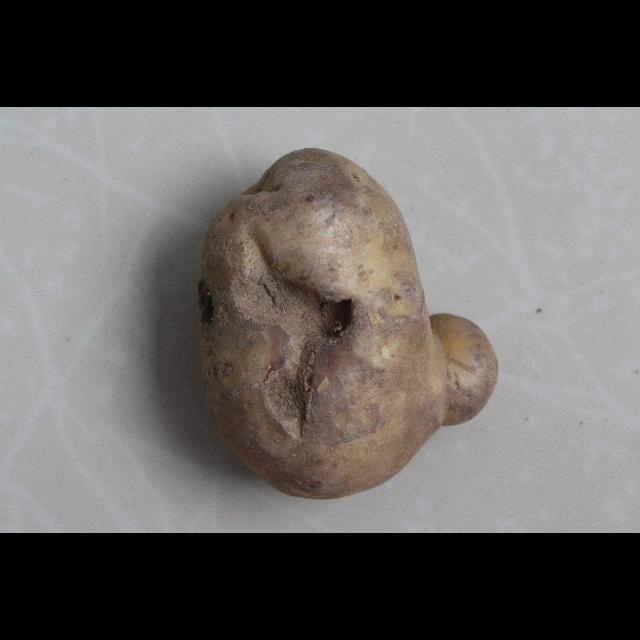Diseased-fungal potato: (188, 144, 502, 506)
